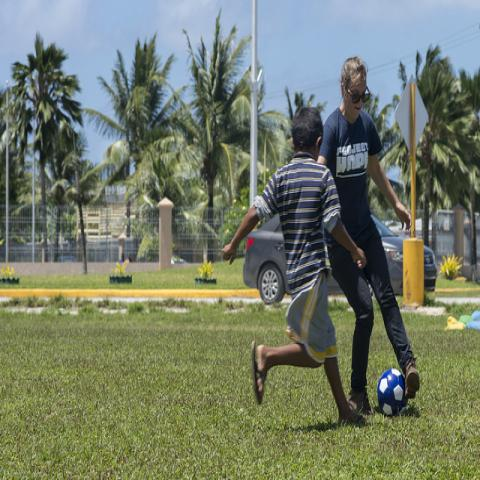car: (243, 212, 438, 304)
